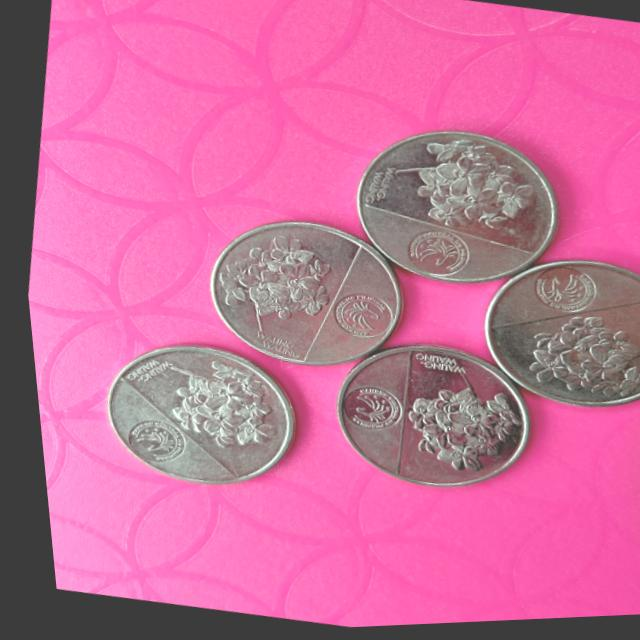1_New_Back: (200, 224, 331, 347), (382, 133, 527, 243), (497, 304, 636, 411), (388, 372, 518, 480), (144, 356, 275, 452)
